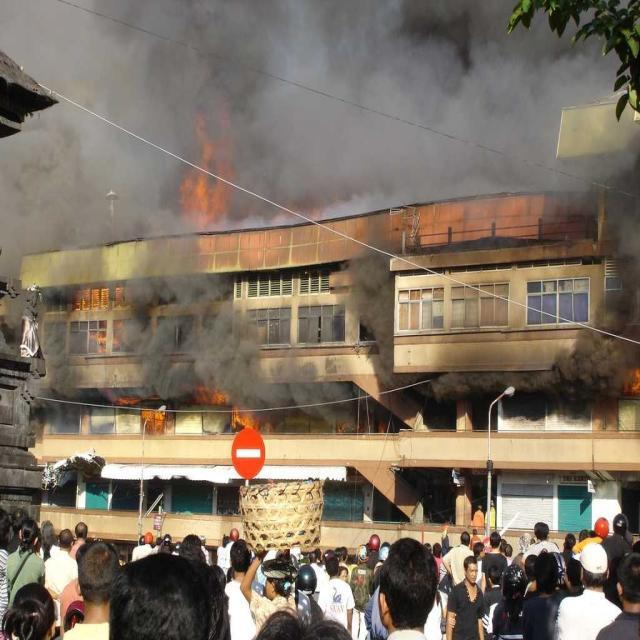Fire: (184, 155, 235, 215), (199, 382, 239, 414), (142, 400, 172, 440)
Smoke: (270, 58, 475, 190), (45, 43, 161, 235)
